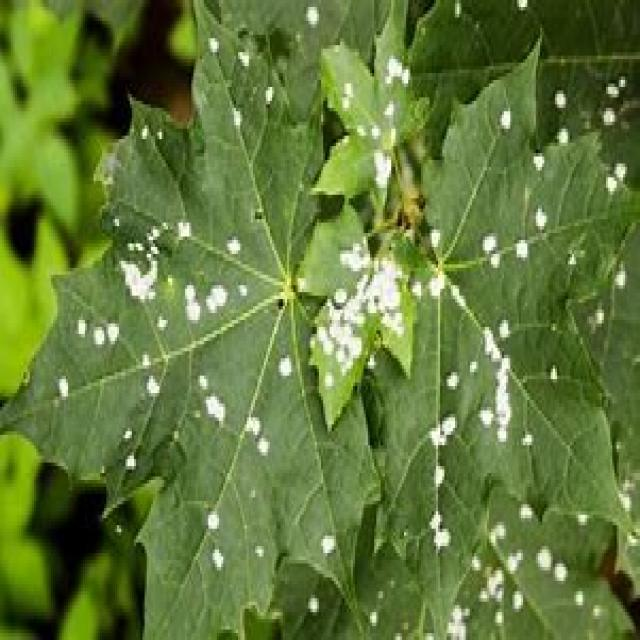Leaf_Mold: (60, 49, 626, 602)
